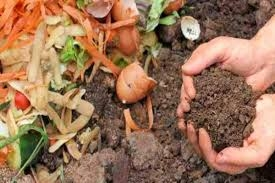kitchen_waste: (8, 75, 107, 156), (110, 61, 164, 110), (23, 18, 51, 86), (102, 19, 144, 57), (56, 35, 91, 69), (175, 11, 205, 45), (77, 1, 115, 21), (10, 89, 34, 114)
